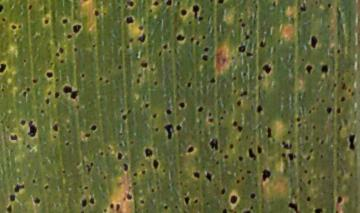tarspot: (346, 131, 358, 153), (26, 118, 39, 138), (259, 166, 273, 184), (64, 85, 79, 100), (307, 33, 320, 50), (163, 122, 175, 140), (207, 136, 221, 151), (260, 62, 275, 76), (264, 123, 275, 142), (246, 146, 258, 163), (286, 200, 301, 213), (279, 137, 293, 150), (141, 146, 155, 158), (318, 61, 330, 75), (246, 190, 260, 202), (151, 156, 161, 172), (71, 22, 83, 35), (302, 62, 314, 75), (228, 193, 240, 206), (175, 31, 186, 45), (12, 183, 27, 193), (44, 69, 56, 81), (136, 32, 148, 44), (183, 79, 196, 90), (258, 37, 268, 51), (191, 3, 200, 18), (85, 161, 94, 176), (178, 7, 190, 18), (176, 100, 188, 111), (287, 151, 298, 163), (333, 194, 345, 205), (238, 89, 250, 100), (297, 3, 308, 15), (114, 200, 124, 213), (123, 15, 136, 25), (204, 170, 214, 183), (323, 105, 334, 116), (191, 170, 202, 181), (208, 76, 219, 87), (205, 115, 216, 126), (62, 139, 73, 150), (124, 191, 134, 203), (191, 195, 201, 207), (199, 32, 209, 44), (18, 116, 27, 129), (80, 197, 88, 211), (151, 109, 159, 123), (89, 122, 99, 133), (25, 2, 36, 12), (196, 104, 206, 115), (200, 52, 210, 63), (236, 44, 247, 54), (234, 98, 244, 109), (235, 125, 246, 135), (41, 182, 52, 192), (150, 79, 161, 89), (304, 153, 314, 164), (334, 46, 344, 57), (164, 106, 173, 118), (235, 154, 247, 163), (161, 40, 170, 52), (136, 197, 148, 206), (302, 133, 311, 145), (51, 121, 59, 134), (93, 8, 101, 21), (174, 123, 184, 133), (119, 112, 129, 122), (226, 141, 236, 151), (142, 100, 152, 110), (37, 106, 47, 116), (8, 133, 19, 142), (186, 143, 195, 154), (139, 61, 150, 70), (71, 44, 80, 55), (201, 45, 212, 54), (78, 70, 87, 81), (103, 76, 112, 87), (305, 177, 314, 188), (19, 90, 30, 99), (338, 94, 347, 105), (239, 20, 248, 31), (312, 205, 324, 213), (115, 61, 123, 73), (216, 115, 228, 123), (1, 61, 7, 76), (8, 193, 18, 202), (32, 196, 41, 206), (30, 77, 40, 86), (254, 105, 264, 114), (221, 152, 230, 162), (218, 186, 228, 195), (303, 193, 313, 202), (244, 167, 254, 176), (152, 125, 162, 134), (161, 202, 171, 211), (121, 162, 129, 173), (107, 201, 115, 212), (126, 1, 137, 9), (243, 33, 251, 44), (301, 166, 309, 177), (89, 194, 96, 206), (116, 150, 123, 162), (241, 207, 255, 213), (43, 96, 52, 105), (148, 186, 157, 195), (234, 177, 243, 186), (5, 205, 15, 213), (53, 90, 61, 100), (61, 17, 71, 25), (333, 106, 343, 114), (182, 195, 190, 205), (97, 148, 105, 158), (325, 1, 333, 11), (41, 18, 52, 25), (30, 176, 37, 187), (163, 1, 174, 8), (214, 159, 222, 168), (82, 184, 90, 193), (125, 41, 131, 53), (9, 24, 19, 31), (151, 1, 161, 8), (129, 171, 139, 178), (58, 45, 64, 56), (58, 58, 66, 66), (96, 75, 104, 83), (134, 78, 143, 85), (219, 207, 229, 213), (215, 1, 227, 6), (294, 115, 302, 122), (189, 34, 194, 44), (1, 2, 5, 14)
